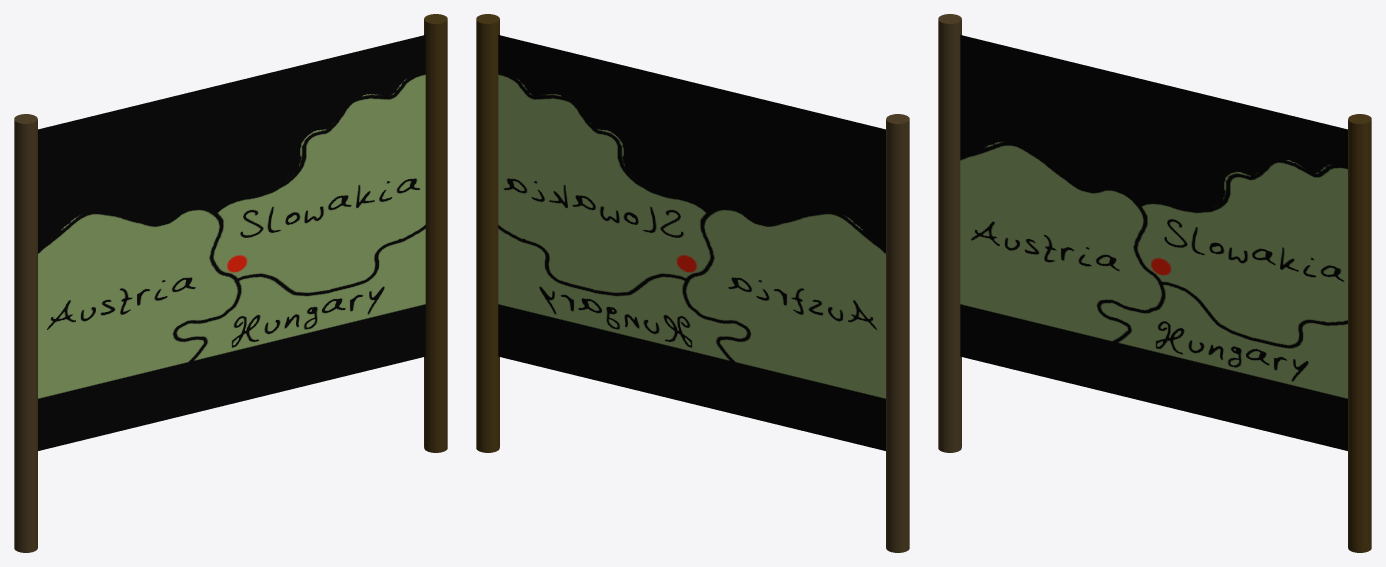
File: Funfact_Slovakia.glb
3 views of the same model, side by side, from view 1: azimuth 30°, elevation 25°; view 2: azimuth 150°, elevation 25°; view 3: azimuth 330°, elevation 25° (orthographic).
Visible parts, largest first — view 1: Plane, Cylinder, Cylinder.001; view 2: Plane, Cylinder, Cylinder.001; view 3: Plane, Cylinder.001, Cylinder.
Boxes of the visible parts, x1,y1,x2,y2 form: Plane: (38, 35, 425, 450); Cylinder: (14, 114, 37, 552); Cylinder.001: (424, 14, 447, 452); Plane: (498, 35, 885, 450); Cylinder: (886, 114, 909, 552); Cylinder.001: (476, 14, 499, 452); Plane: (960, 35, 1347, 450); Cylinder.001: (1348, 114, 1371, 552); Cylinder: (938, 14, 961, 452).
Size of the model in its own units: 4.2 by 4 by 0.2.
3 materials, 1 textured.
